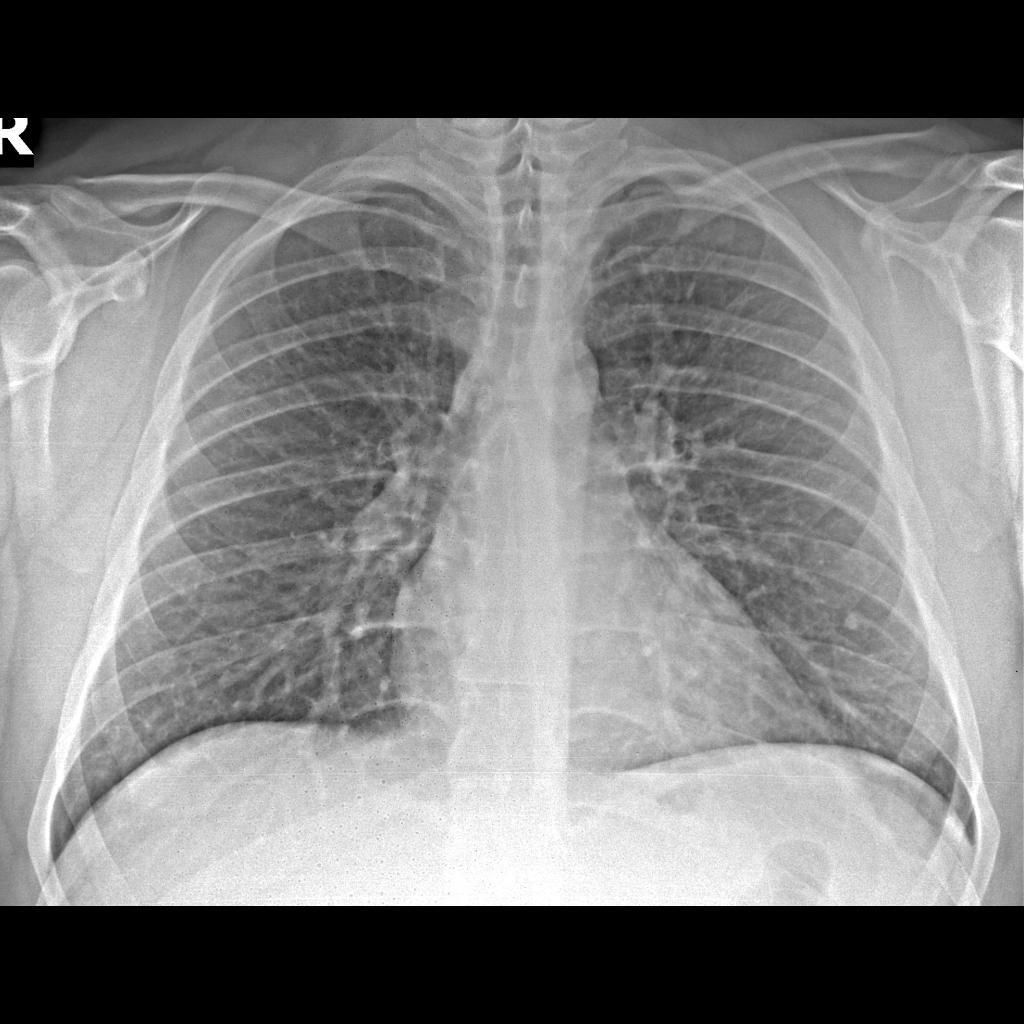Nodule: (844, 602, 868, 645)
